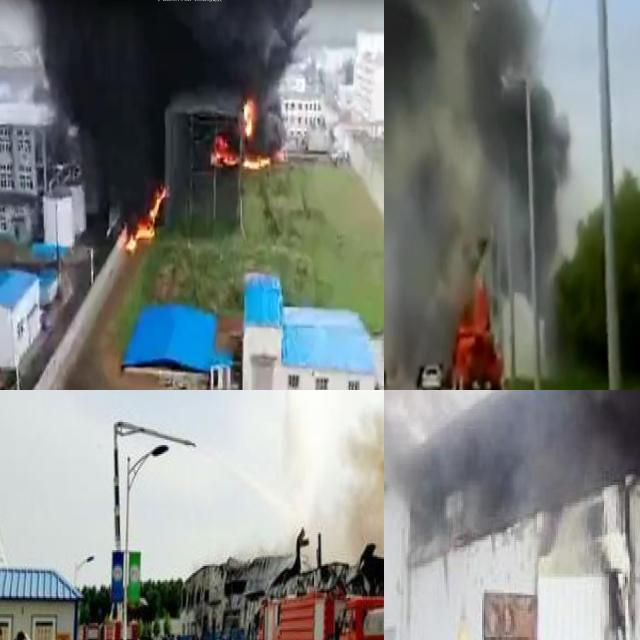fire: (456, 279, 500, 382), (122, 186, 165, 250), (212, 134, 234, 167), (244, 150, 272, 172), (242, 98, 254, 134)
smoke: (11, 0, 310, 227), (384, 0, 569, 360), (384, 390, 640, 501)
